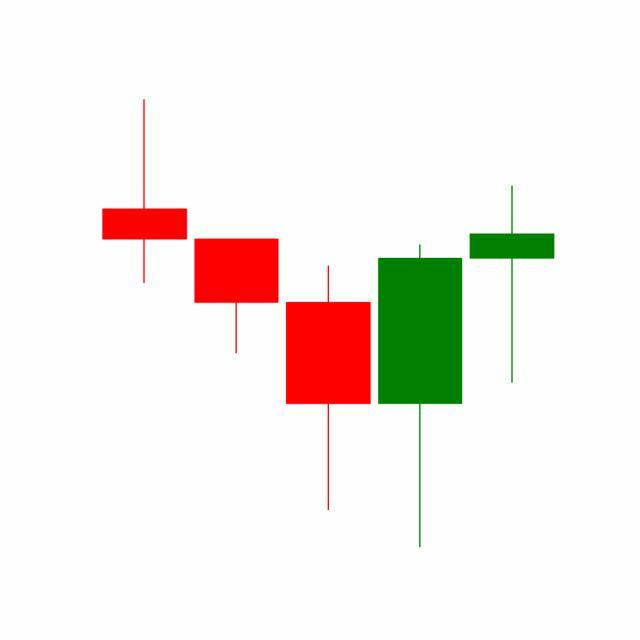Spinning Top: (466, 184, 559, 386)
